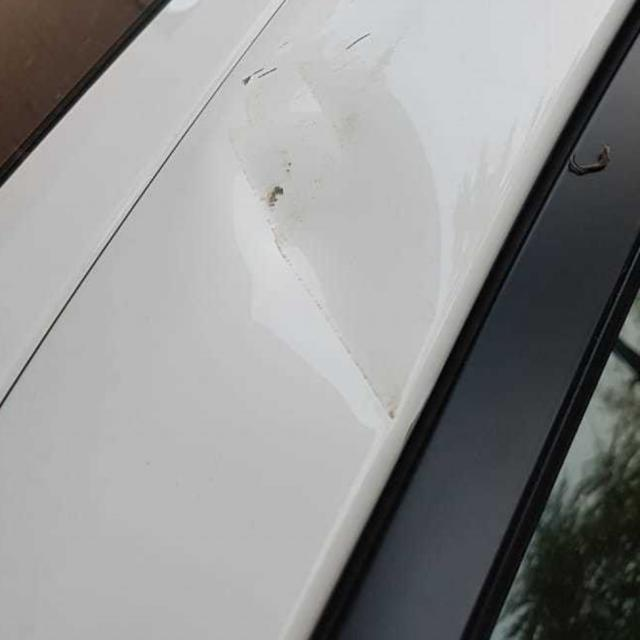dents: (230, 41, 460, 432)
